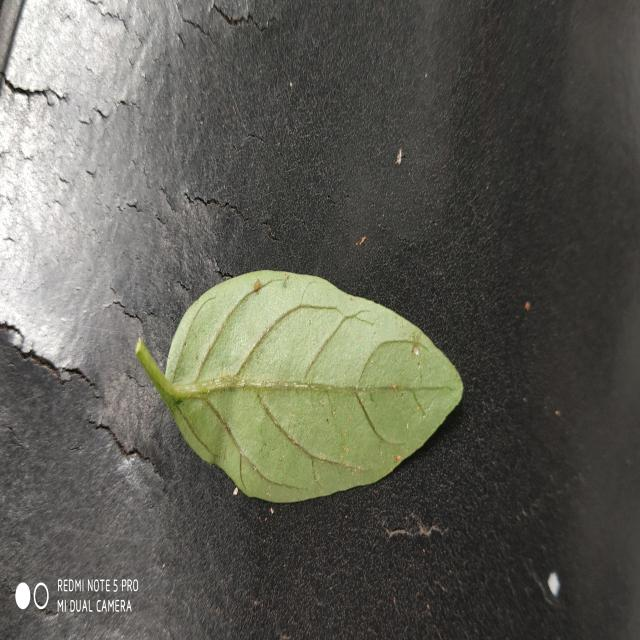ganike: (136, 271, 462, 502)
